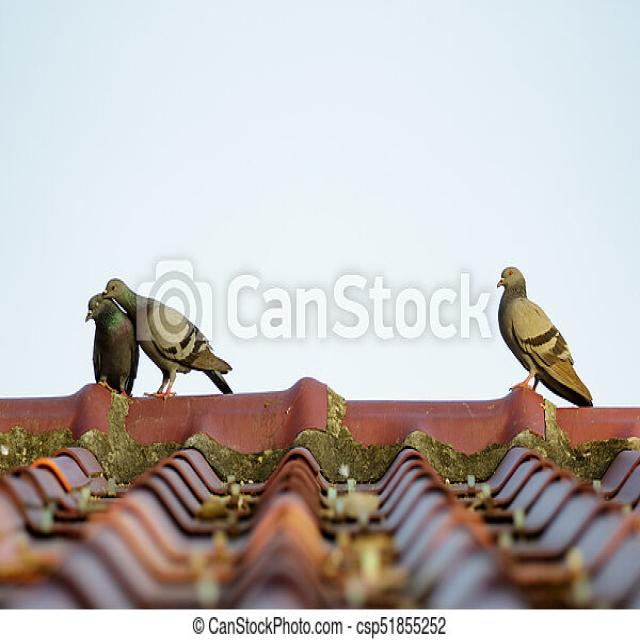bird: (495, 266, 594, 408), (134, 276, 234, 400), (86, 286, 140, 398)
